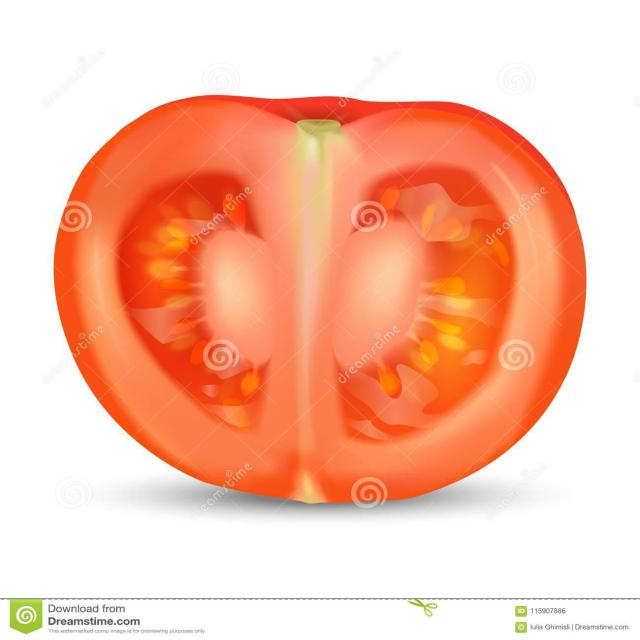Tomato: (52, 93, 597, 514)
